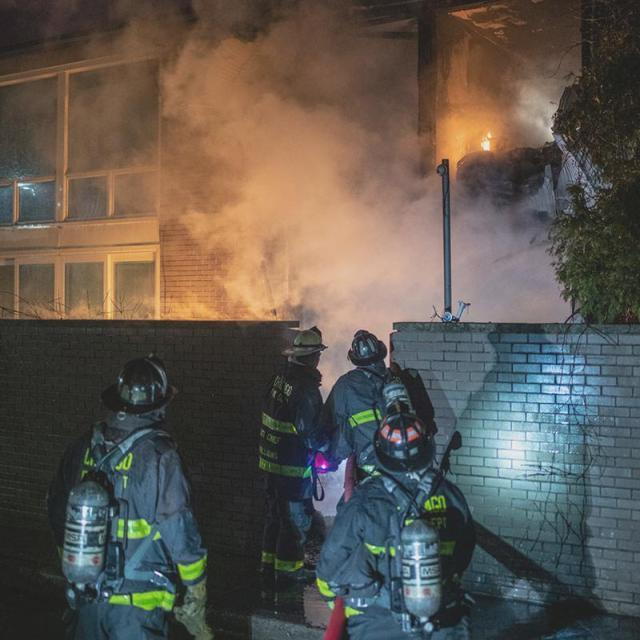Fire: (476, 132, 494, 150)
Smoke: (180, 22, 496, 340)
